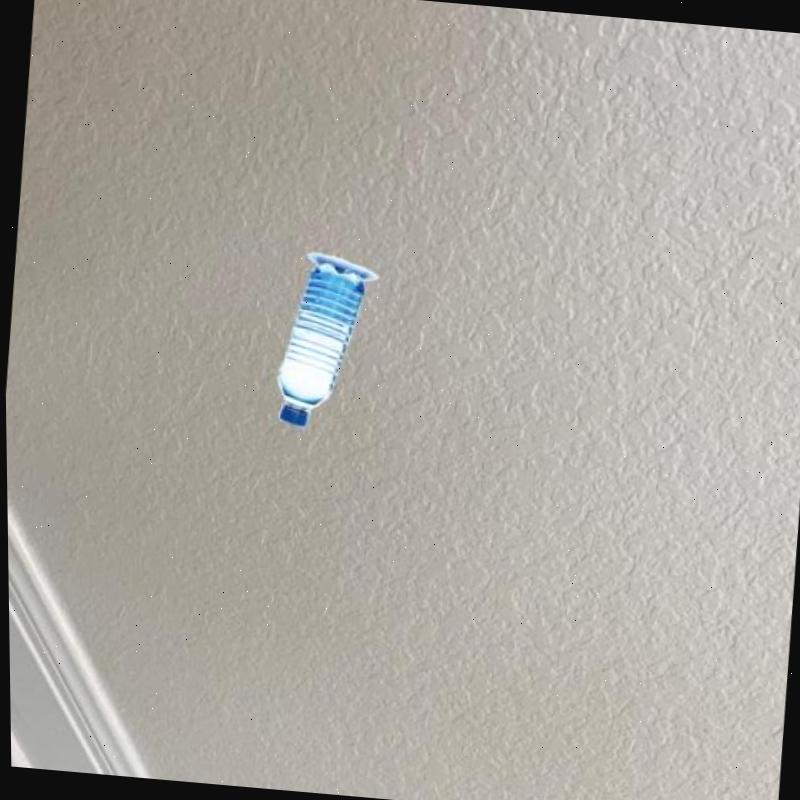botella: (267, 262, 369, 430)
